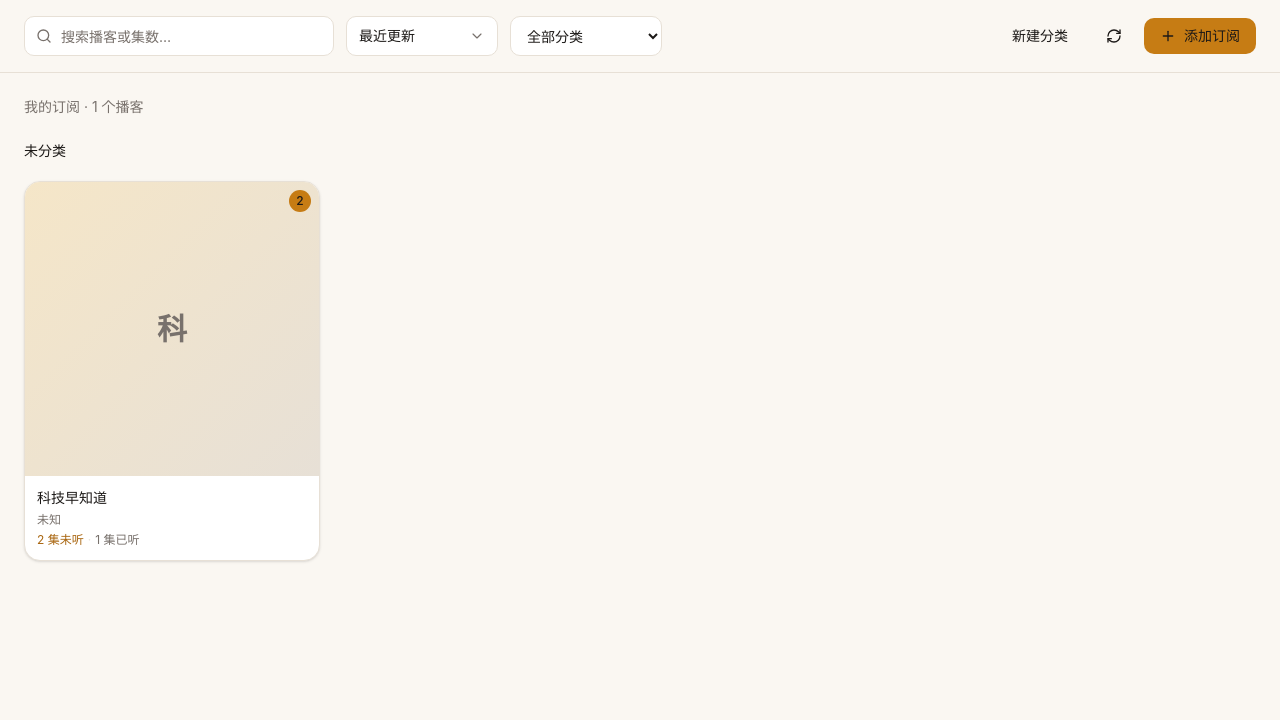
Test: SubscriptionListView › opens the unsubscribe dialog from the context menu without removing immediately
Right-click the button "科 2 科技早知道 未知 2 集未听·1 集已听" at (172, 371), box [24,181,320,561]
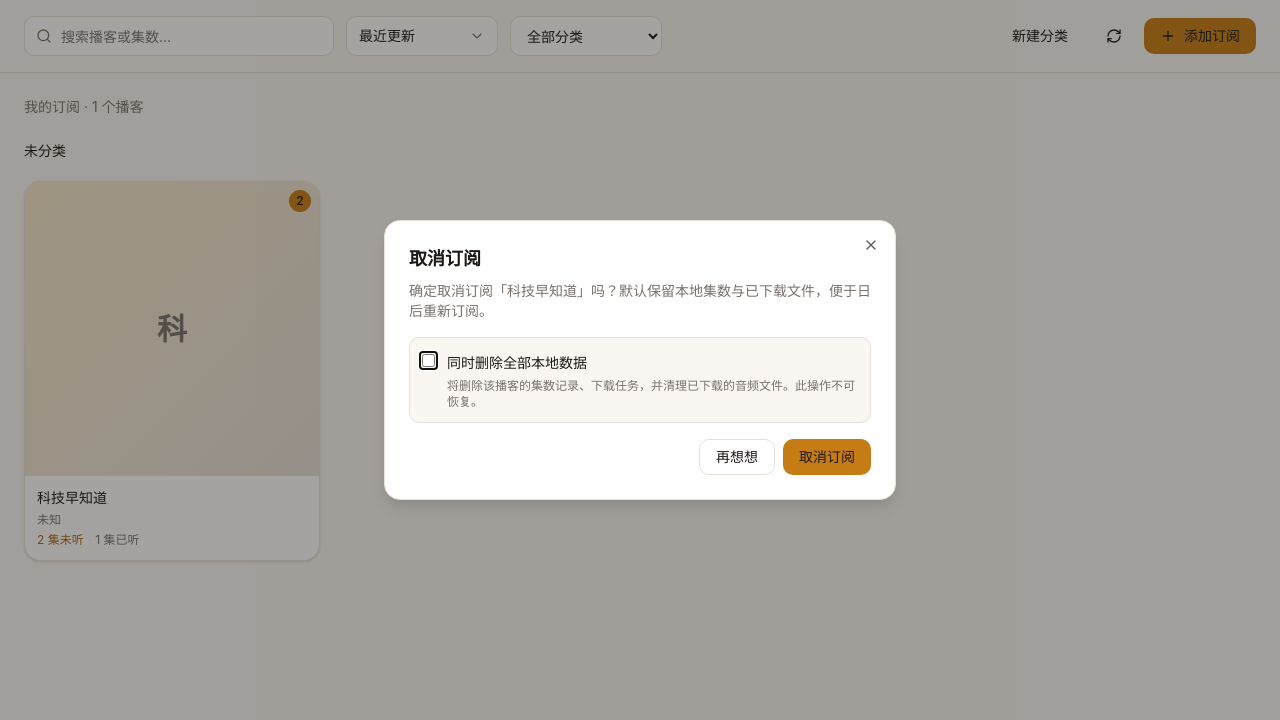
Result: the text "确定取消订阅「科技早知道」吗？默认保留本地集数与已下载文件，便于日后重新订阅。" is shown at [409,281,871,321]
